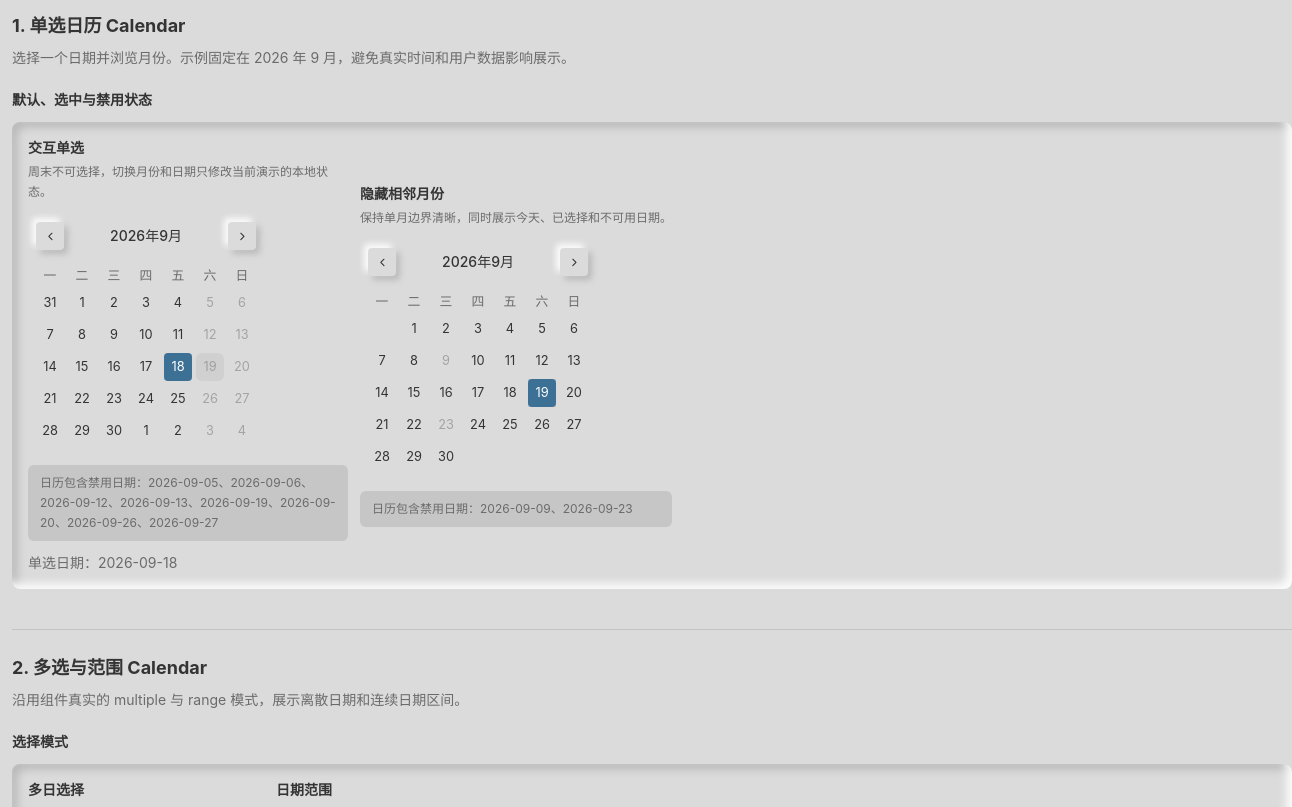
Test case: CalendarDemo › lists every disabled date and updates recurring disabled dates with the visible month
Expected: the text "日历包含禁用日期：2026-09-05、2026-09-06、2026-09-12、2026-09-13、2026-09-19、2026-09-20、2026-09-26、2026-09-27" is shown, [28, 465, 348, 541]
Click the button named "next month" below "周末不可选择，切换月份和日期只修改当前演示的本地状态。": click(242, 236) [228, 222, 256, 250]
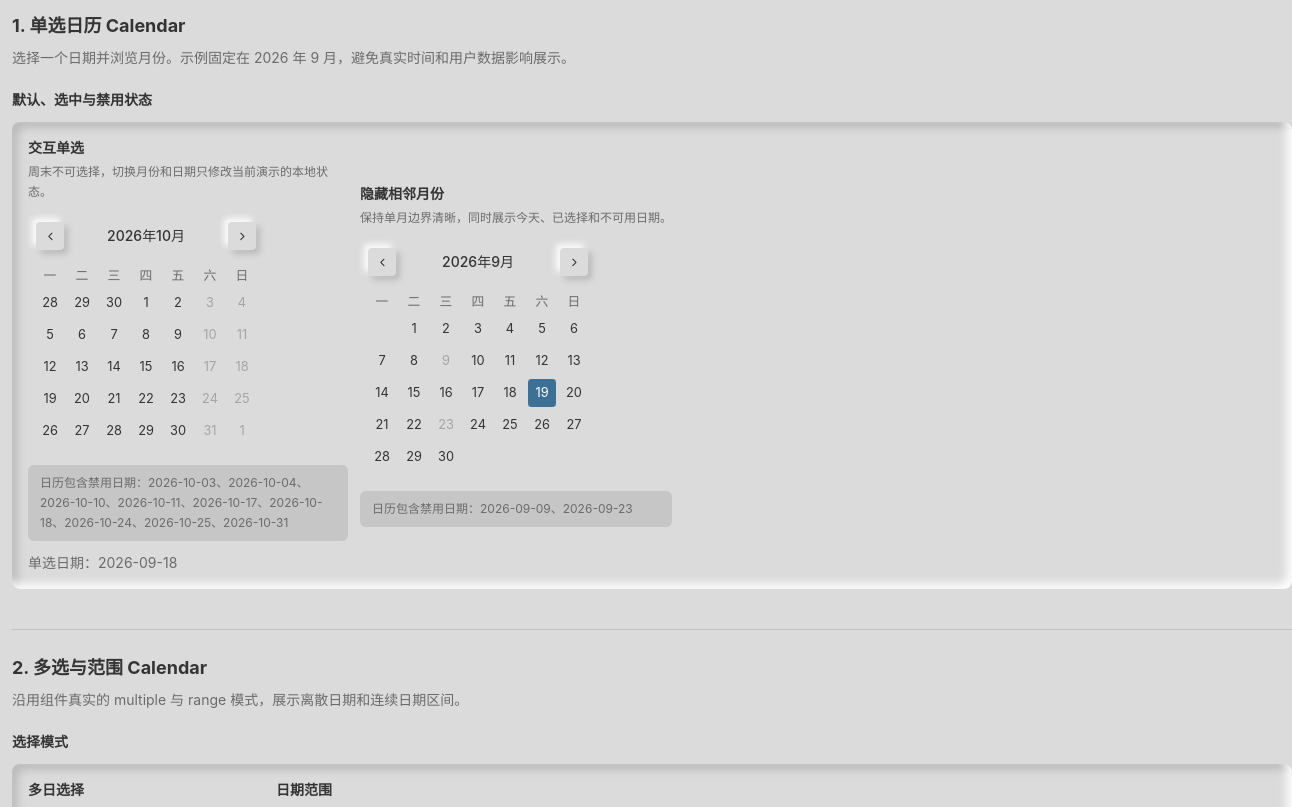
Expected: the text "日历包含禁用日期：2026-09-09、2026-09-23" is shown, [360, 491, 672, 527]
Result: the text "日历包含禁用日期：2026-10-03、2026-10-04、2026-10-10、2026-10-11、2026-10-17、2026-10-18、2026-10-24、2026-10-25、2026-10-31" is shown at [28, 465, 348, 541]
